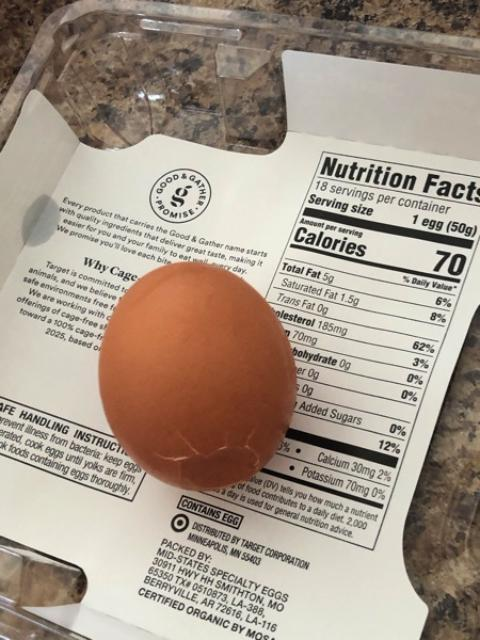Roto: (96, 259, 298, 492)
